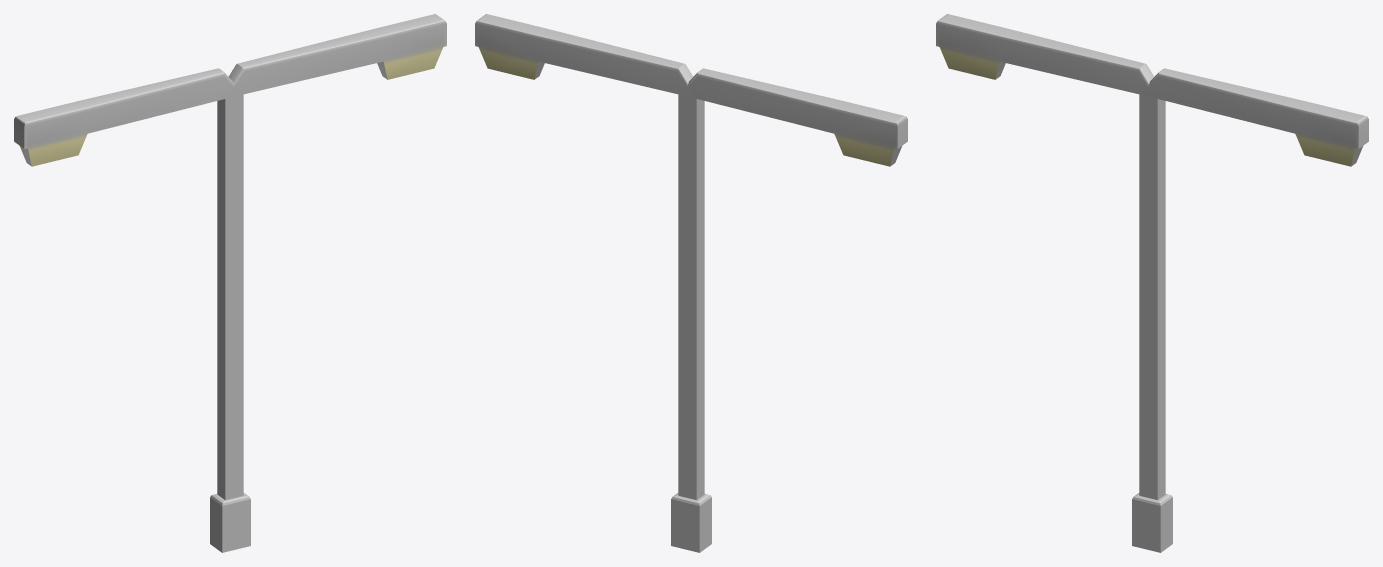
File: Lamp_02.fbx
The picture shows the model from 3 angles, left to right: view 1: azimuth 30°, elevation 25°; view 2: azimuth 150°, elevation 25°; view 3: azimuth 330°, elevation 25°; orthographic projection.
Parts seen in each view (by area): view 1: pCube153; view 2: pCube153; view 3: pCube153.
Part boxes in pixels (bbox=[...]): pCube153: bbox=[14, 14, 446, 552]; pCube153: bbox=[475, 14, 907, 552]; pCube153: bbox=[936, 14, 1368, 552].
Size of the model in its own units: 4.21 by 4.55 by 0.2091.
